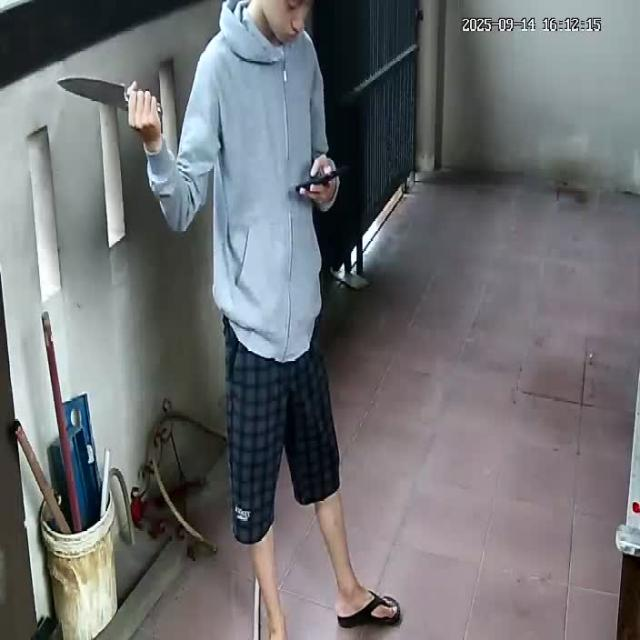senjata_tajam: (57, 74, 131, 111)
